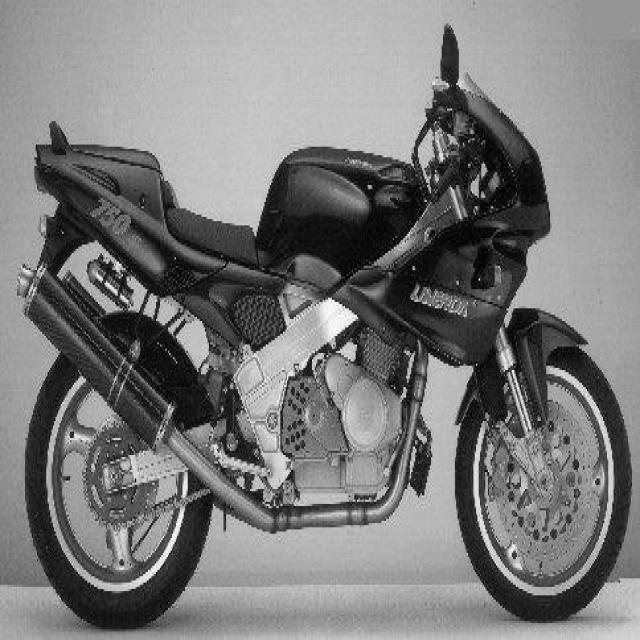Motorcycle: (17, 26, 632, 630)
